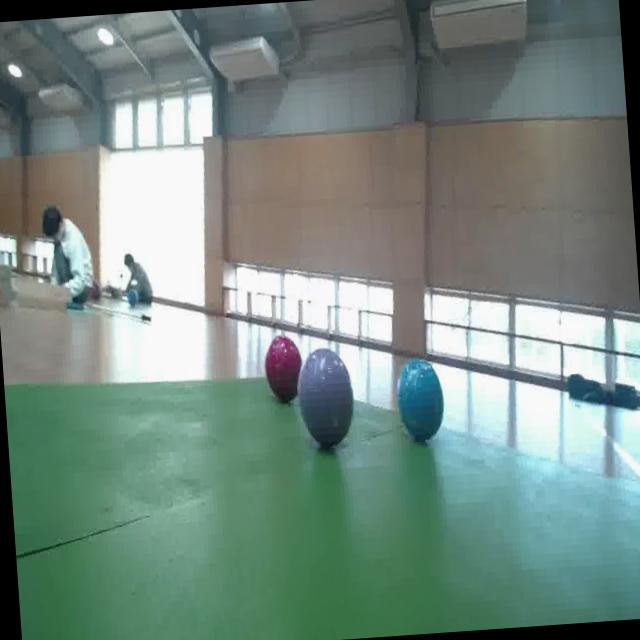blue_ball: (397, 356, 447, 441)
purple_ball: (298, 349, 357, 446)
red_ball: (263, 336, 304, 402)
